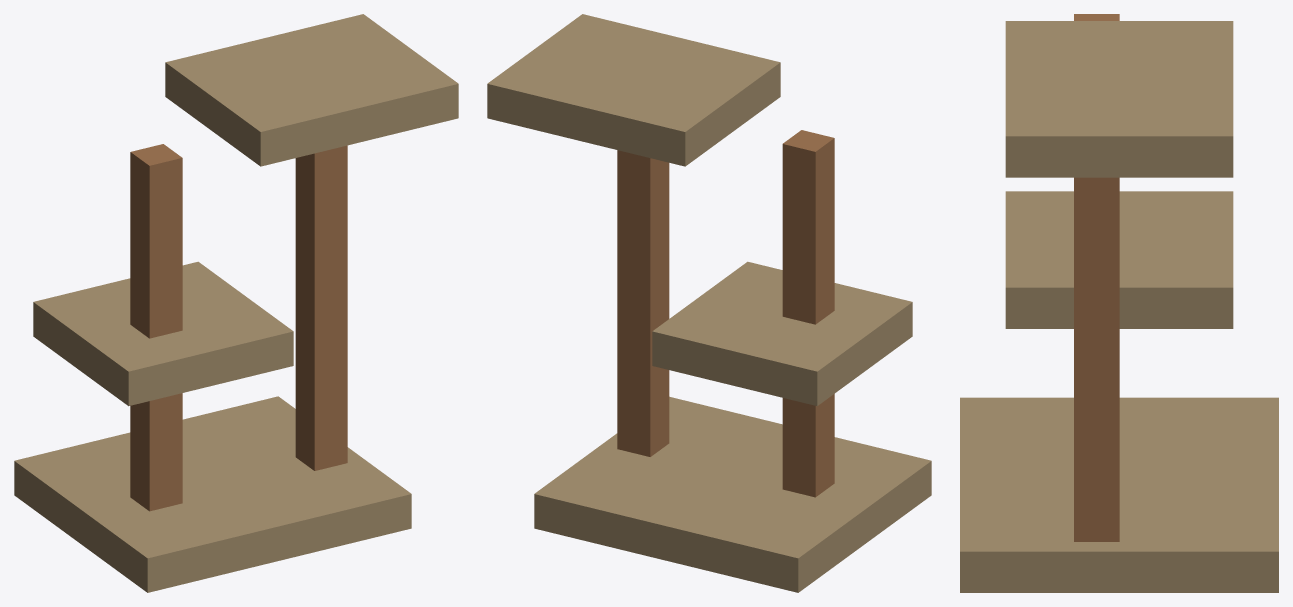
File: pets-03.glb
The picture shows the model from 3 angles, left to right: view 1: azimuth 30°, elevation 25°; view 2: azimuth 150°, elevation 25°; view 3: azimuth 270°, elevation 25°; orthographic projection. The views are drawn at different scales.
Parts seen in each view (by area): view 1: Cat tree; view 2: Cat tree; view 3: Cat tree.
Boxes of the visible parts, left/top/right/bottom form: Cat tree: left=14, top=14, right=458, bottom=592; Cat tree: left=487, top=14, right=931, bottom=592; Cat tree: left=960, top=14, right=1278, bottom=592.
Size of the model in its own units: 1.6 by 1.92 by 1.12.
